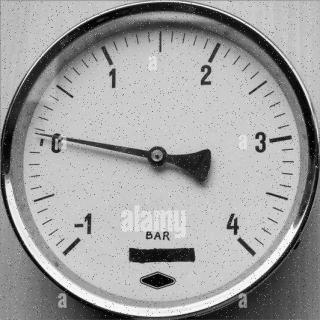gauge: (0, 0, 320, 320), (222, 220, 258, 259), (66, 226, 89, 254), (147, 145, 168, 172), (30, 126, 46, 140)
